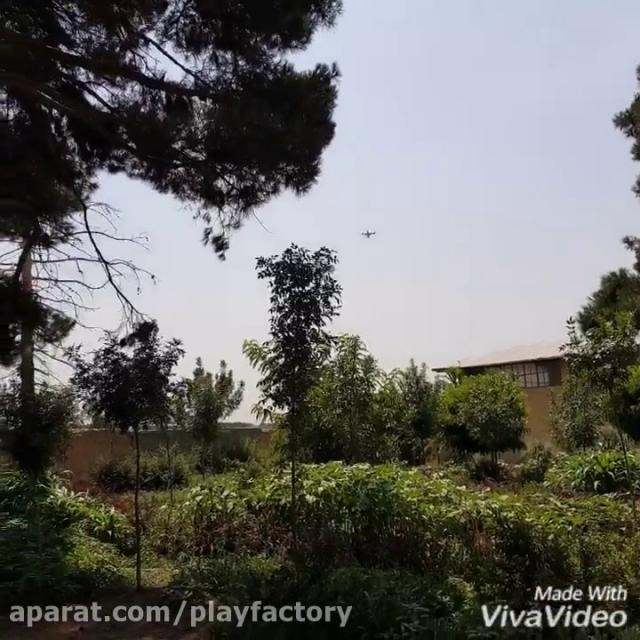drone: (358, 225, 377, 241)
